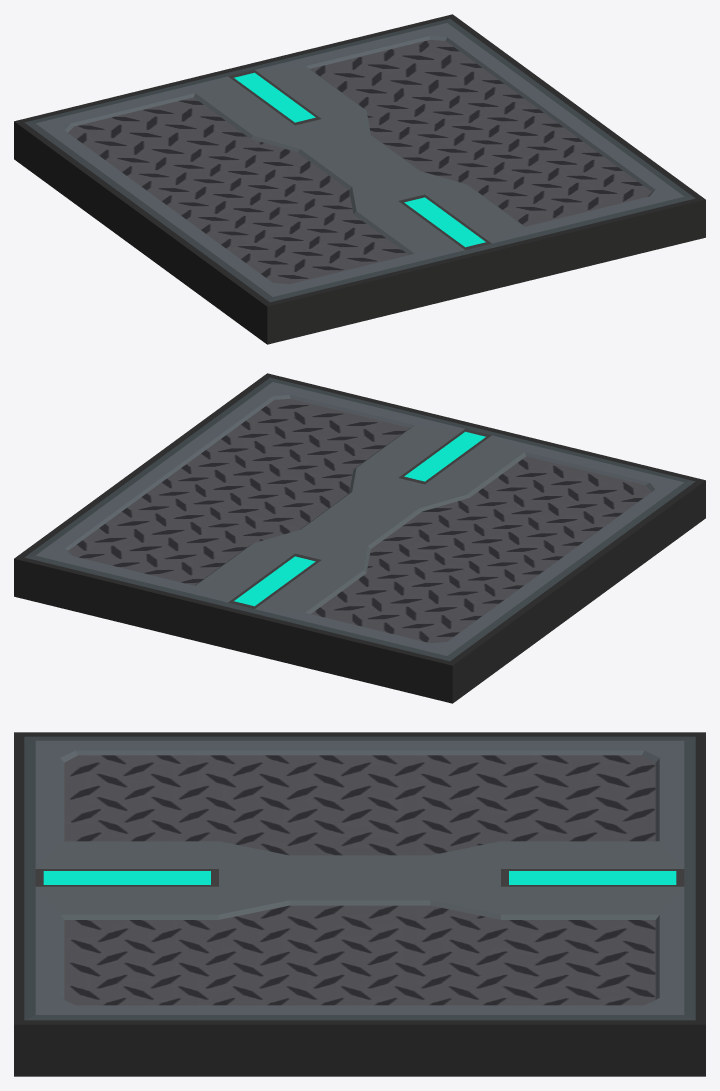
The model's file is space_SM_Bld_Floor_Small_05.gltf.
3 renders of one model, top to bottom at view 1: azimuth 30°, elevation 25°; view 2: azimuth 150°, elevation 25°; view 3: azimuth 270°, elevation 25°, orthographic. The views are drawn at different scales.
Parts seen in each view (by area): view 1: SM_Bld_Floor_Small_05; view 2: SM_Bld_Floor_Small_05; view 3: SM_Bld_Floor_Small_05.
Part boxes in pixels (box(x1,y1,x2,y2)): SM_Bld_Floor_Small_05: box(14, 14, 705, 344); SM_Bld_Floor_Small_05: box(14, 373, 705, 703); SM_Bld_Floor_Small_05: box(14, 732, 705, 1076).
Bounding box in the file's own units: 2.5 × 0.2095 × 2.5.
1 material, 1 textured.
